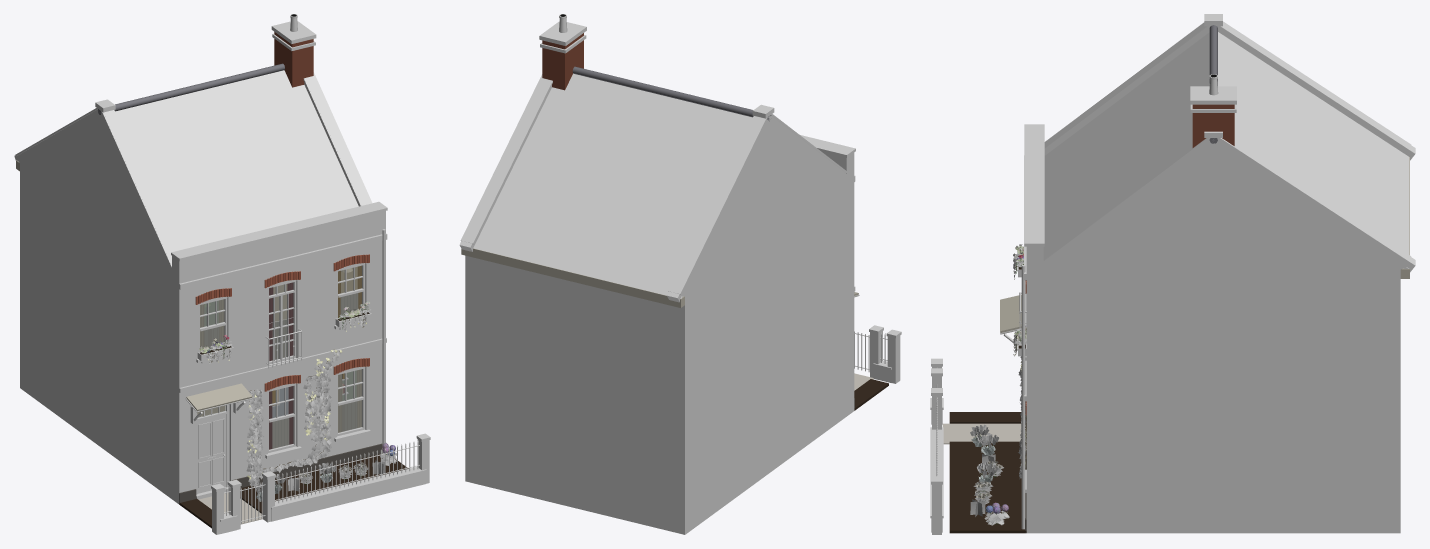
File: Opposite_Opposite1_2.glb
3 views of the same model, side by side, from view 1: azimuth 30°, elevation 25°; view 2: azimuth 150°, elevation 25°; view 3: azimuth 270°, elevation 25° (orthographic). The views are drawn at different scales.
Parts seen in each view (by area): view 1: Opposite_Opposite1_2; view 2: Opposite_Opposite1_2; view 3: Opposite_Opposite1_2.
Boxes of the visible parts, x1=… form: Opposite_Opposite1_2: x1=14, y1=14, x2=430, y2=534; Opposite_Opposite1_2: x1=459, y1=14, x2=901, y2=534; Opposite_Opposite1_2: x1=930, y1=14, x2=1415, y2=534.
Size of what is drawn, in the model's own units: 6.22 by 10.63 by 10.38.
